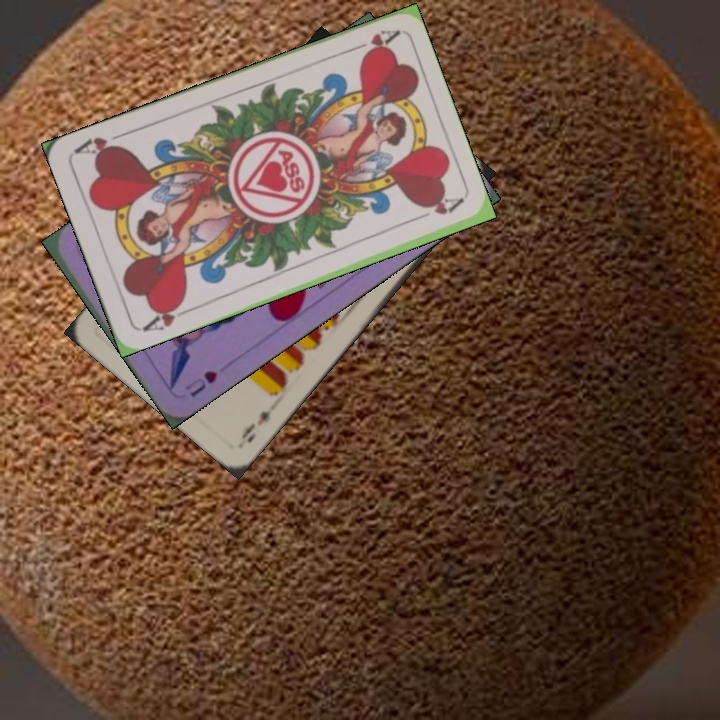E9: (237, 405, 273, 446)
HA: (138, 296, 194, 335), (343, 25, 400, 60)
HU: (181, 366, 221, 400)
